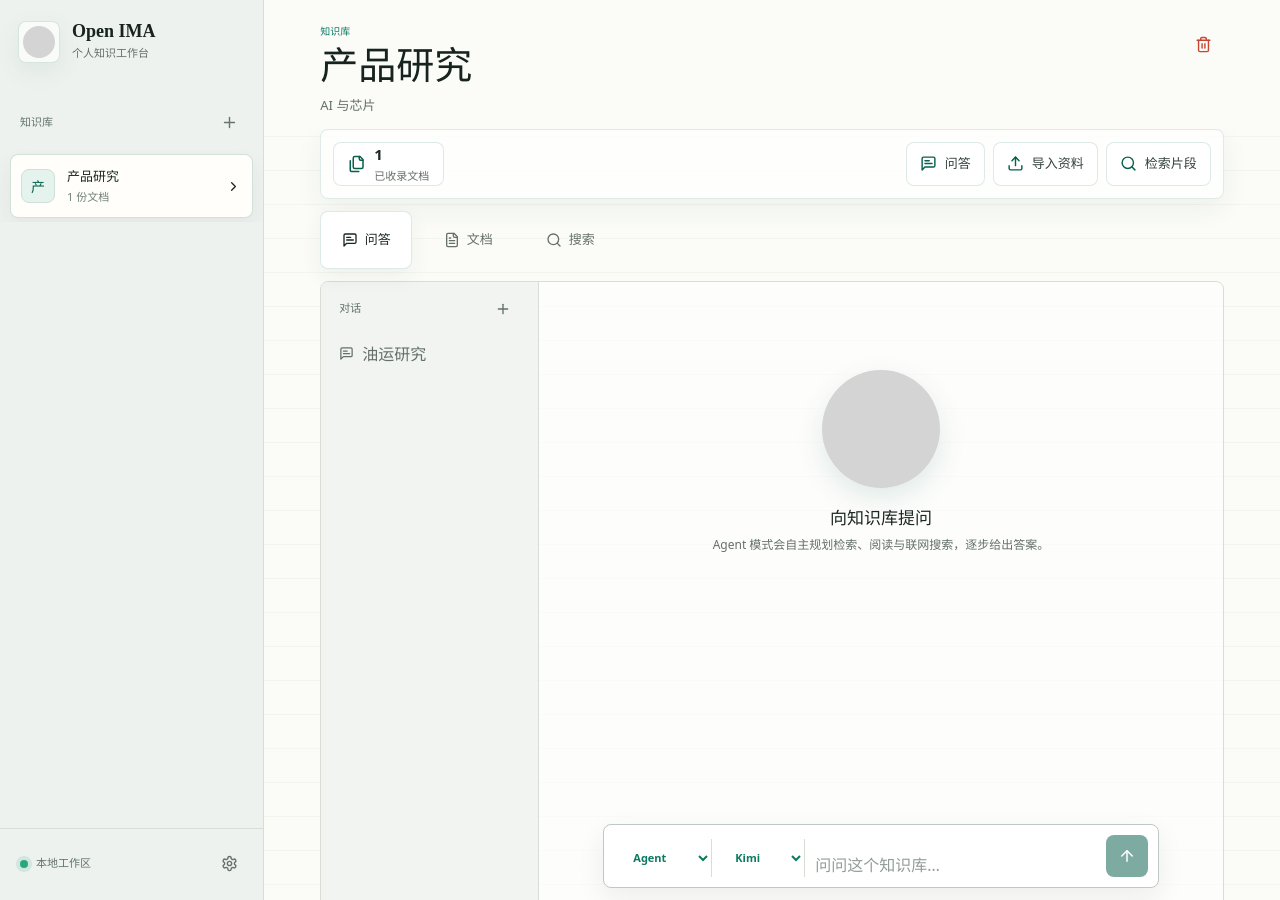
App › numbers every chunk and navigates between them in the reader
Click the tab "文档": [468, 240] box [422, 211, 514, 269]
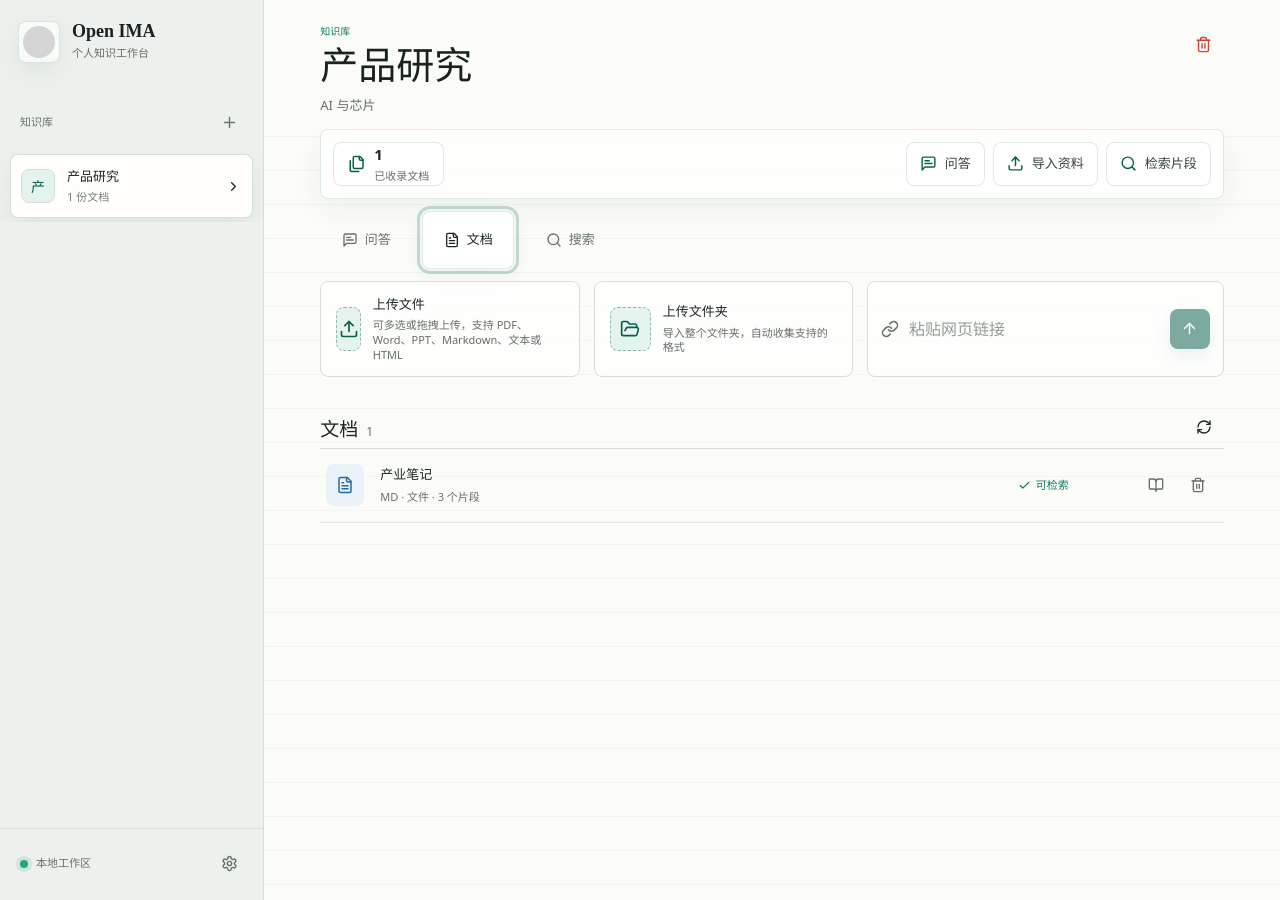
Click the button named "阅读 产业笔记": [1156, 485] box [1136, 465, 1176, 505]
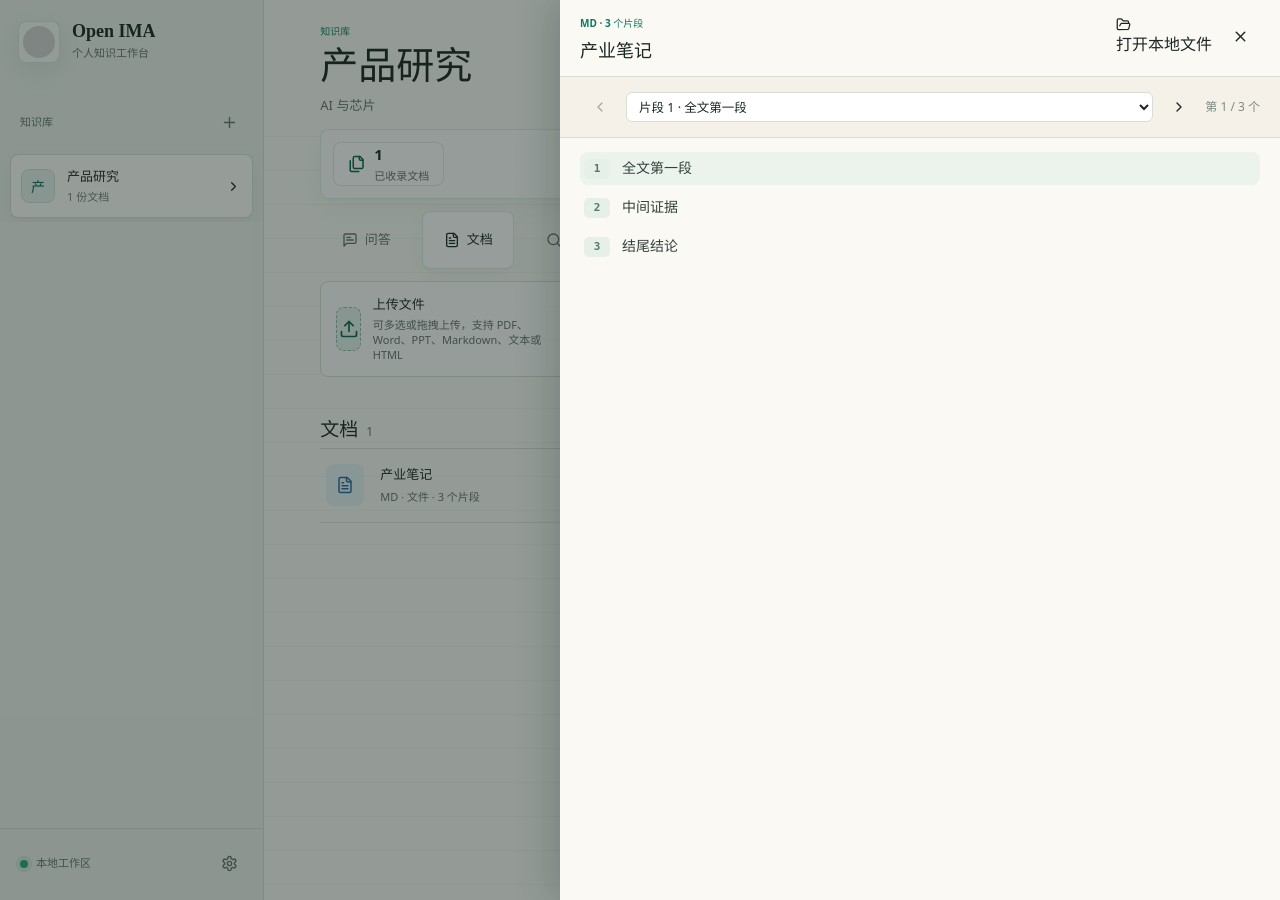
Check: the text "中间证据" is shown, box [622, 200, 678, 215]
Check: the number of elements with class "chunk-seq" is 3, box [584, 159, 610, 179]; [584, 198, 610, 218]; [584, 237, 610, 257]
Select "片段 2 · 中间证据" in the dropdown named "片段导航": [890, 107] box [626, 92, 1153, 122]
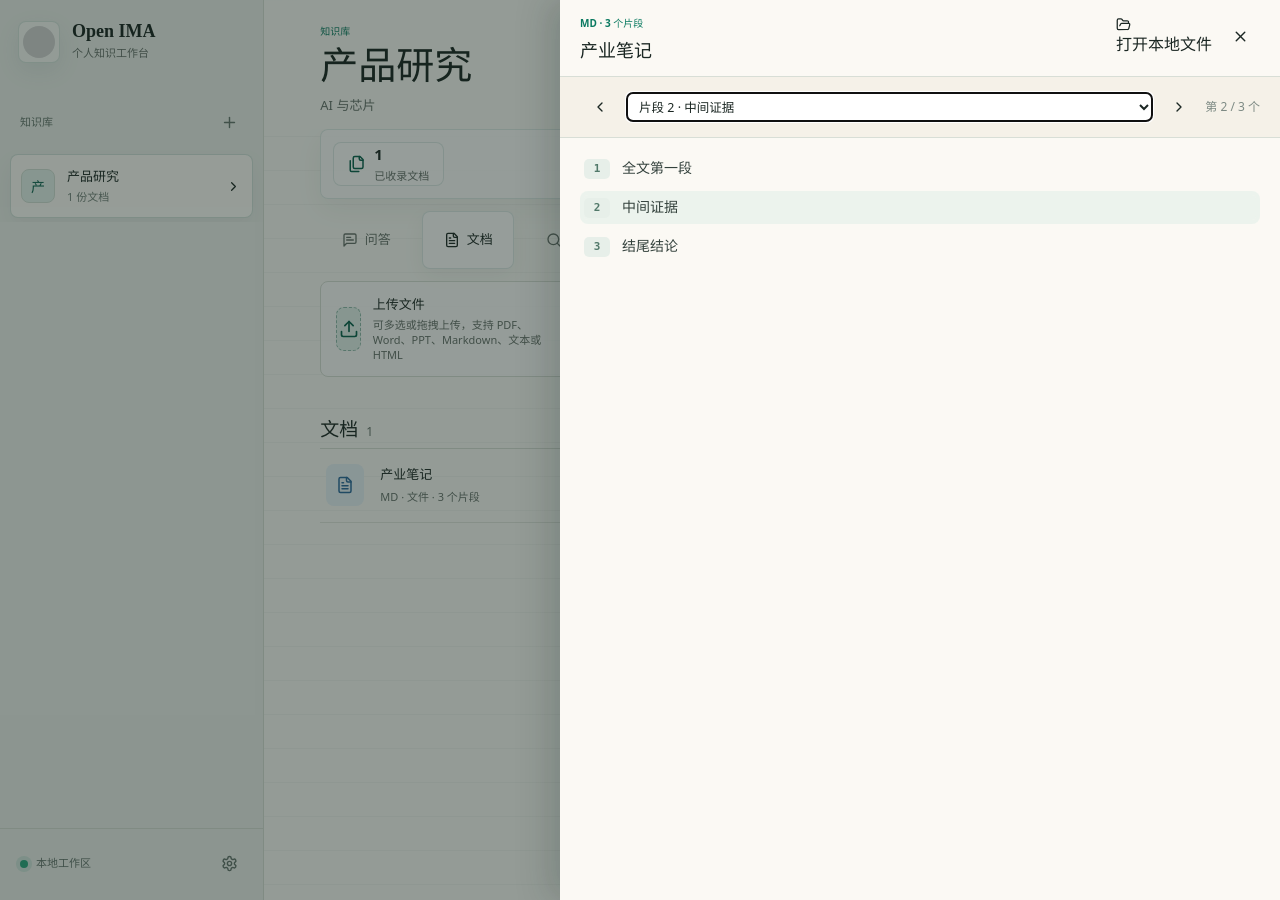
Check: the element with class "reader-current" shows "中间证据", box [622, 200, 678, 215]
Check: the text "第 2 / 3 个" is shown, box [1205, 98, 1260, 116]
// 上一个 / 下一个按钮
Click the button named "下一个片段": [1179, 107] box [1159, 87, 1199, 127]
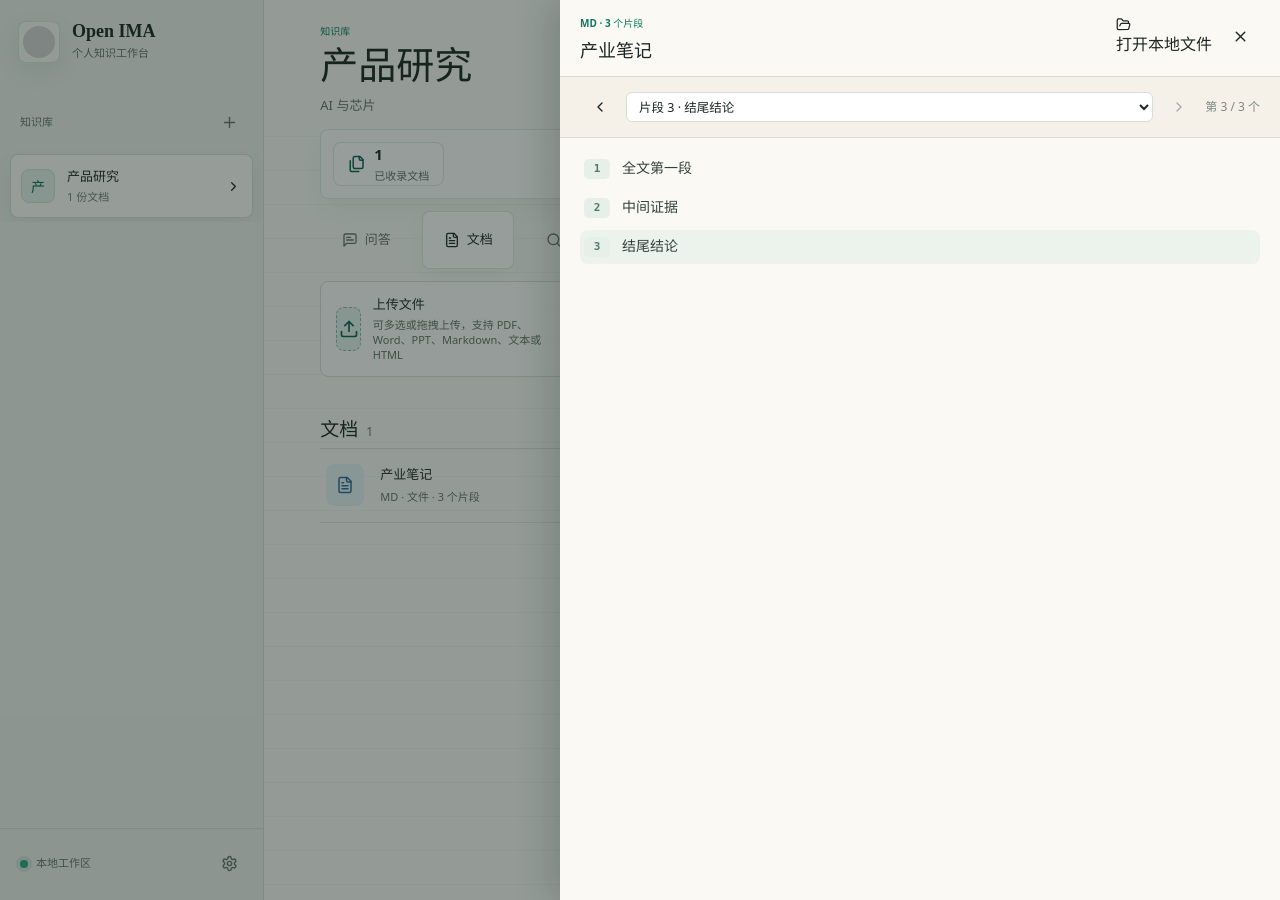
Check: the text "第 3 / 3 个" is shown, box [1205, 98, 1260, 116]
Click the button named "上一个片段": [600, 107] box [580, 87, 620, 127]
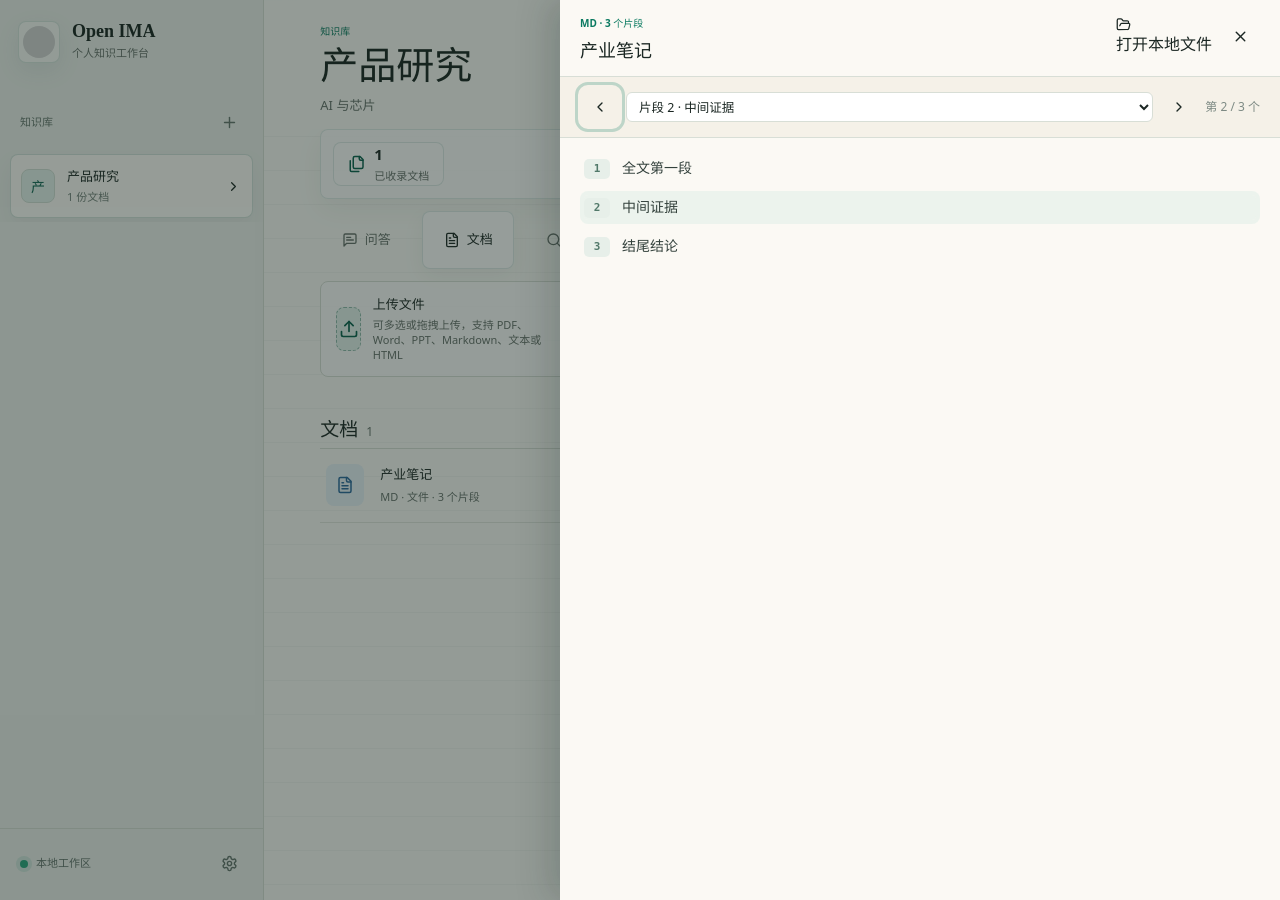
Check: the text "第 2 / 3 个" is shown, box [1205, 98, 1260, 116]
